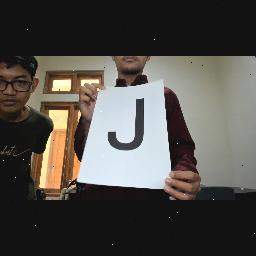j: (105, 96, 147, 156)
